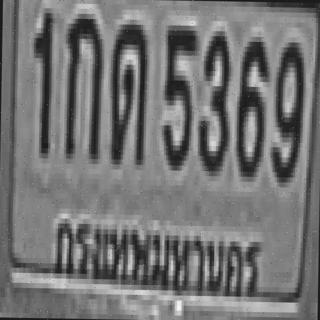A01: (64, 9, 103, 162)
A20: (109, 19, 147, 168)
N01: (30, 9, 52, 157)
N03: (197, 27, 231, 172)
N05: (161, 20, 196, 166)
N06: (234, 35, 268, 175)
N09: (272, 39, 304, 180)
P04: (48, 203, 265, 312)
